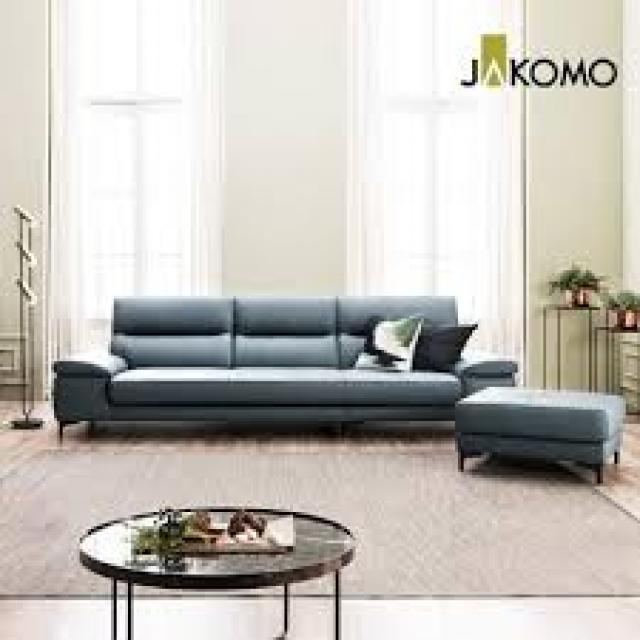Sofa: (25, 272, 550, 468)
